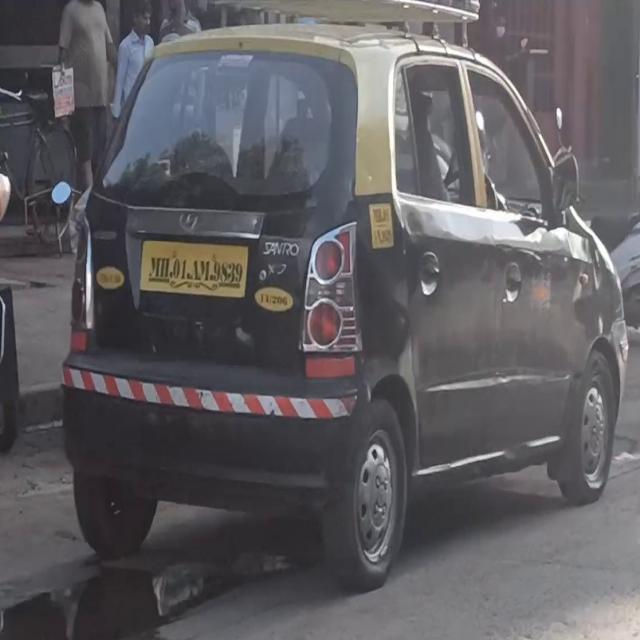license_plate: (136, 230, 252, 306)
